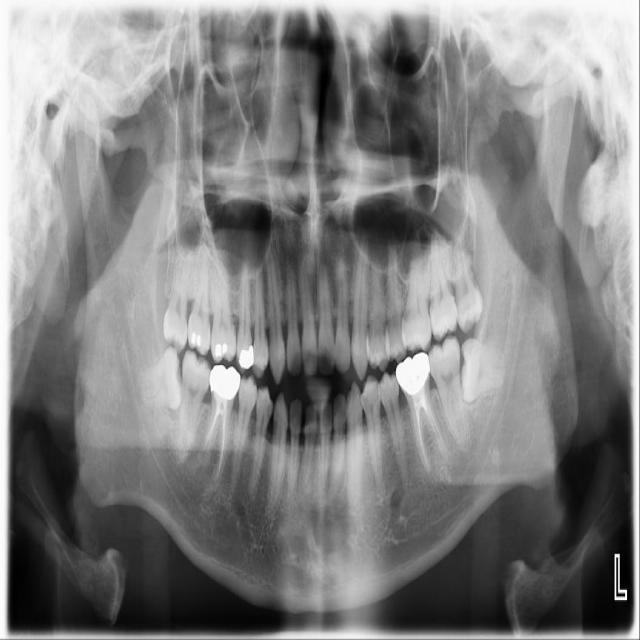3M ESPE Implant: (161, 246, 195, 354)
52: (390, 348, 443, 403), (203, 362, 244, 409), (210, 311, 237, 364), (187, 305, 211, 356), (235, 324, 254, 372)
73: (600, 560, 604, 570)
BioHorizons Implant: (424, 226, 458, 341)
BioLife Implant: (452, 231, 485, 335)
Biomet 3i Implant: (458, 336, 507, 405)
Blue Sky Bio Implant: (425, 333, 470, 450)
Caries: (186, 243, 214, 356)
Implant: (178, 349, 213, 463)
Keystone Dental Implant: (137, 345, 187, 413)
